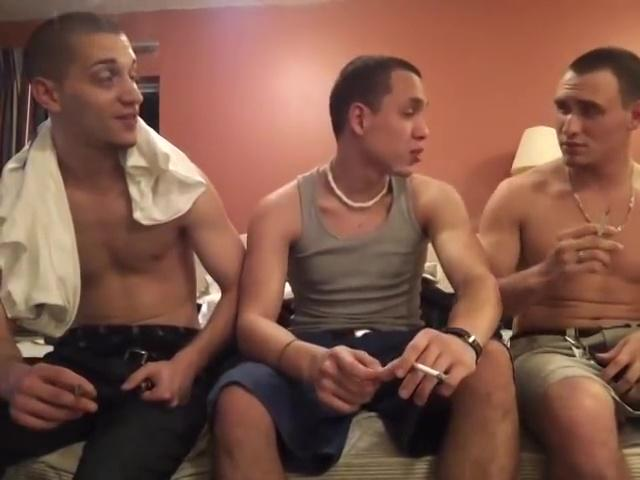cigarette: (412, 361, 451, 385), (597, 204, 617, 238), (73, 382, 86, 402)
